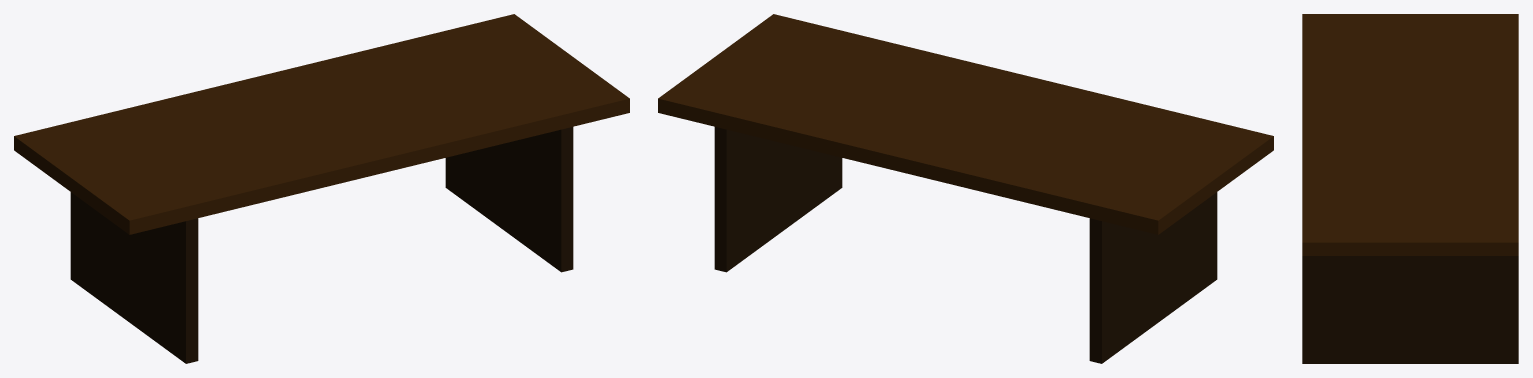
Rendered from twoRectangleLegs.fbx.
3 views of the same model, side by side, from view 1: azimuth 30°, elevation 25°; view 2: azimuth 150°, elevation 25°; view 3: azimuth 270°, elevation 25° (orthographic). The views are drawn at different scales.
Visible parts, largest first — view 1: twoRectangleLegs; view 2: twoRectangleLegs; view 3: twoRectangleLegs.
Part boxes in pixels (left/top/right/bottom): twoRectangleLegs: left=14, top=14, right=629, bottom=363; twoRectangleLegs: left=658, top=14, right=1273, bottom=363; twoRectangleLegs: left=1302, top=14, right=1518, bottom=363.
Size of the model in its own units: 200 by 60 by 80.
